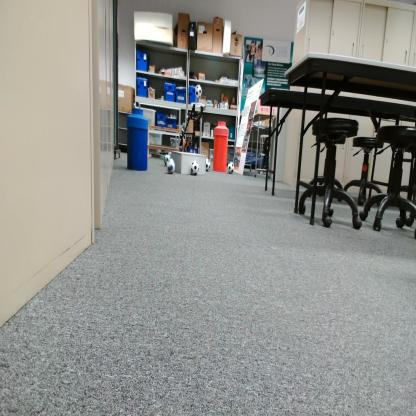ball: (166, 158, 176, 174), (191, 160, 199, 176), (194, 84, 202, 97), (205, 157, 210, 172), (228, 162, 234, 174), (165, 154, 170, 164)
